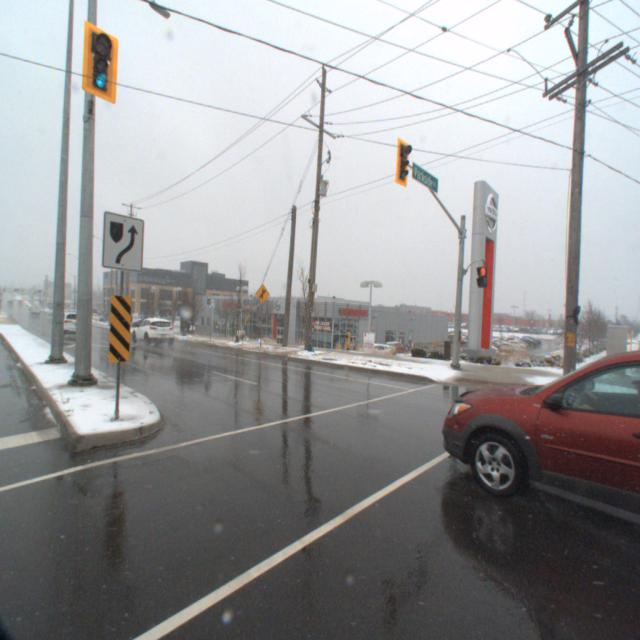Car: (130, 318, 180, 352)
